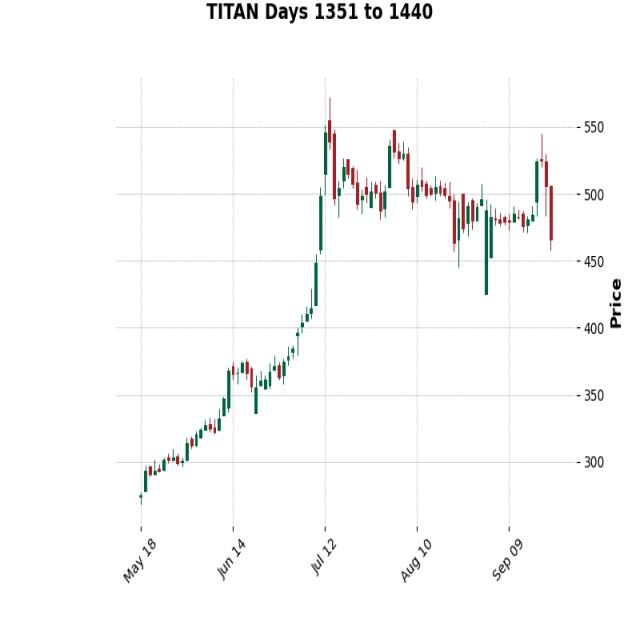Ascending Triangle: (323, 92, 528, 316)
